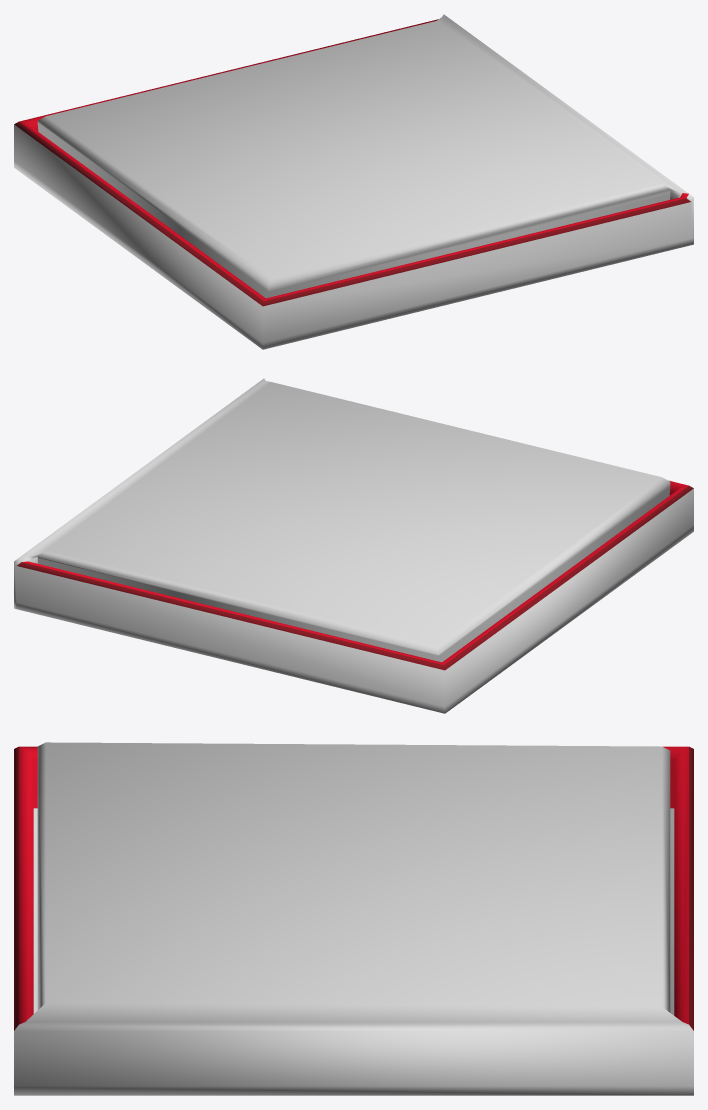
The model's file is pizzabox.fbx.
3 renders of one model, top to bottom at view 1: azimuth 30°, elevation 25°; view 2: azimuth 150°, elevation 25°; view 3: azimuth 270°, elevation 25°, orthographic. The views are drawn at different scales.
Parts seen in each view (by area): view 1: pizzabox; view 2: pizzabox; view 3: pizzabox.
Part boxes in pixels (box(x1,y1,x2,y2)): pizzabox: box(14, 14, 693, 349); pizzabox: box(14, 378, 693, 713); pizzabox: box(14, 742, 693, 1095).
Size of the model in its own units: 217 by 27.91 by 217.
